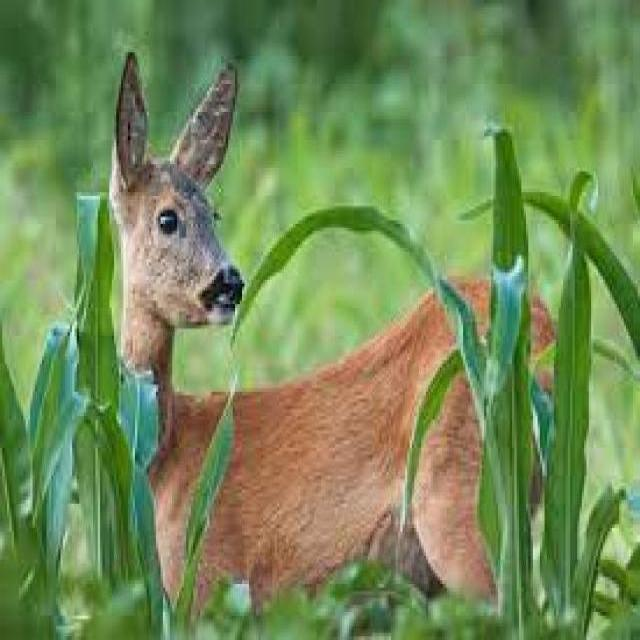deer: (112, 42, 506, 589)
